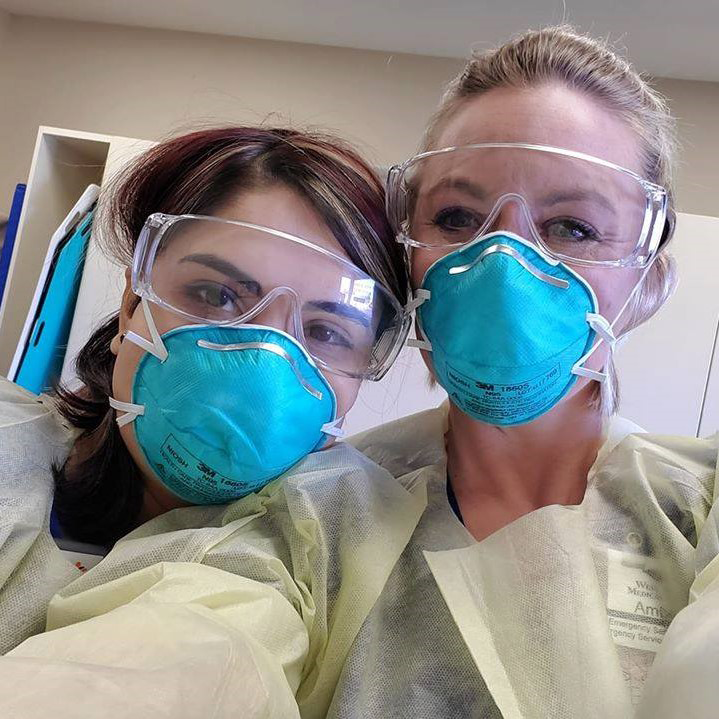Goggles: (133, 201, 408, 382), (378, 129, 679, 271)
with_mask: (118, 241, 373, 502), (411, 171, 642, 429)
